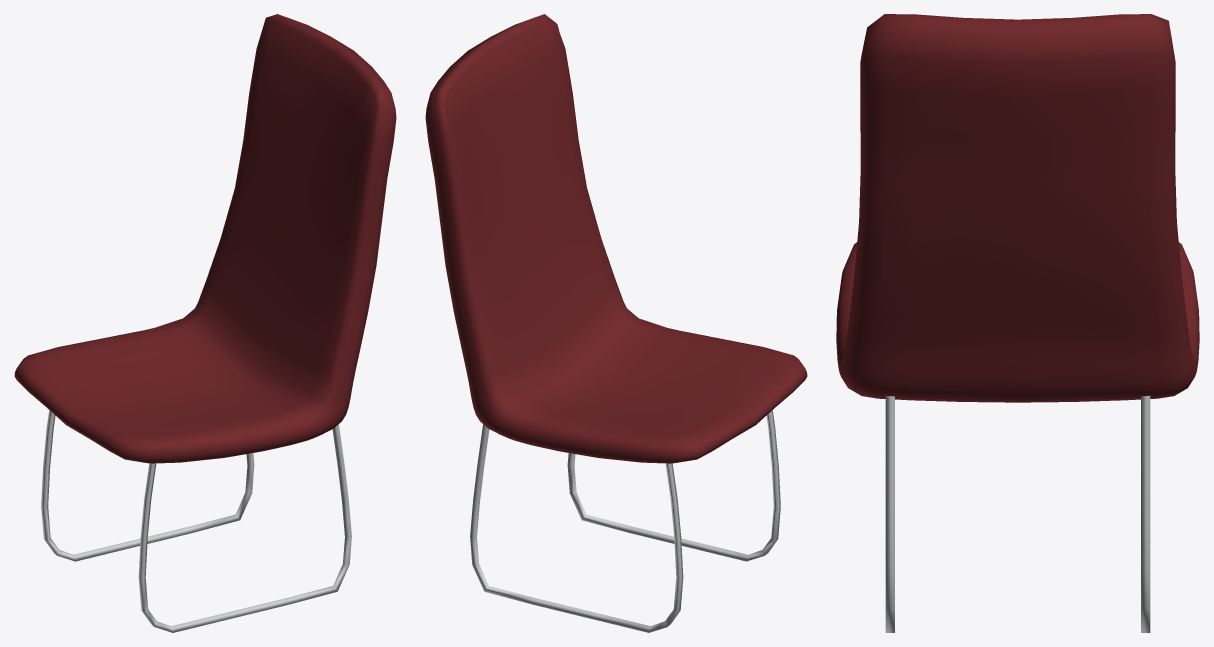
The model's file is ÇALIŞMA SANDALEYSI.fbx.
3 views of the same model, side by side, from view 1: azimuth 30°, elevation 25°; view 2: azimuth 150°, elevation 25°; view 3: azimuth 270°, elevation 25° (orthographic). The views are drawn at different scales.
Parts seen in each view (by area): view 1: Cube.015; view 2: Cube.015; view 3: Cube.015.
Part boxes in pixels (x1,y1,x2,y2): Cube.015: [14, 14, 396, 632]; Cube.015: [425, 14, 807, 632]; Cube.015: [836, 14, 1199, 632].
Size of the model in its own units: 60.34 by 97.63 by 49.52.
